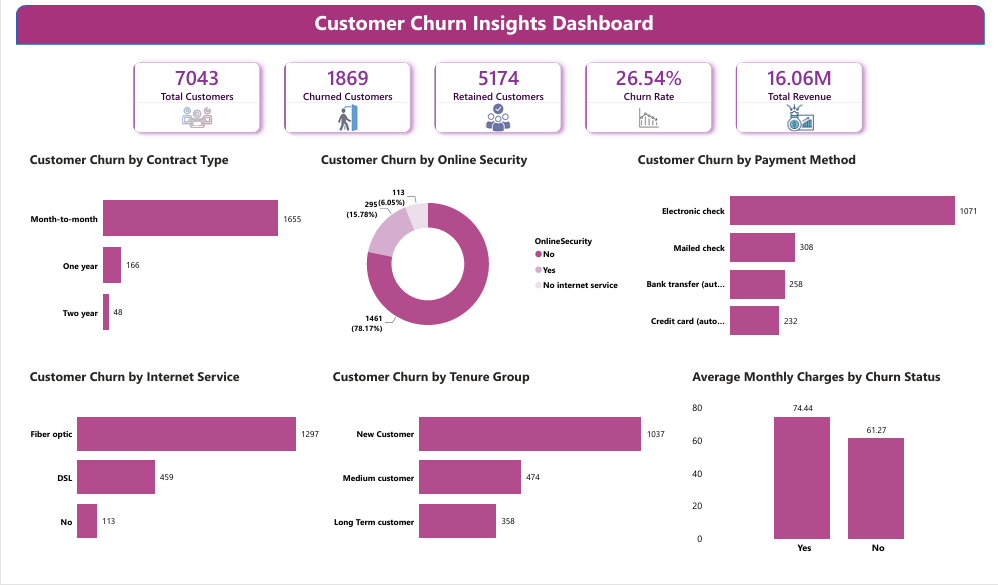

Layout of this report page (visuals, bound fields, positions):
{"tool":"powerbi","page":{"name":"Executive Overview","canvas":[1550,900],"ordinal":0},"visuals":[{"type":"cardVisual","fields":{"Data":["BaseMeasures.Total Customers","BaseMeasures.Churned Customers","BaseMeasures.Retained Customers","BaseMeasures.Churn Rate","BaseMeasures.Total Revenue"]},"box":[160,64,1225.5,167.5],"z":0},{"type":"shape","box":[0,0,1550,63.3],"z":1000},{"type":"textbox","box":[324.7,0,848.4,63.6],"z":2000},{"type":"clusteredBarChart","title":"Customer Churn by Contract Type","fields":{"Category":["customer_churn_analysis customer_churn_copy.Contract"],"Y":["BaseMeasures.Churned Customers"]},"box":[16.7,231.7,466.7,326.7],"z":3000},{"type":"clusteredColumnChart","title":"Average Monthly Charges by Churn Status","fields":{"Category":["customer_churn_analysis customer_churn_copy.Churn"],"Y":["BaseMeasures.Average Monthly Charges"]},"box":[1076.7,580,461.7,308.3],"z":4000},{"type":"donutChart","title":"Customer Churn by Online Security","fields":{"Y":["BaseMeasures.Churned Customers"],"Category":["customer_churn_analysis customer_churn_copy.OnlineSecurity"]},"box":[483.3,231.7,493.3,326.7],"z":5000},{"type":"clusteredBarChart","title":"Customer Churn by Tenure Group","fields":{"Category":["customer_churn_analysis customer_churn_copy.tenure_group"],"Y":["BaseMeasures.Churned Customers"]},"box":[501.7,580,560,308.3],"z":6000},{"type":"clusteredBarChart","title":"Customer Churn by Internet Service","fields":{"Category":["customer_churn_analysis customer_churn_copy.InternetService"],"Y":["BaseMeasures.Churned Customers"]},"box":[16.7,580,473.3,308.3],"z":7000},{"type":"clusteredBarChart","title":"Customer Churn by Payment Method","fields":{"Y":["BaseMeasures.Churned Customers"],"Category":["customer_churn_analysis customer_churn_copy.PaymentMethod"]},"box":[990,231.7,560,326.7],"z":8000}]}

Visuals, with their boxes in screenshot pixels (x1, y1, x2, y2), scaled from the page's 1550x900 canvas onto the 998x585 screenshot:
cardVisual - BaseMeasures.Total Customers x BaseMeasures.Churned Customers: {"left": 103, "top": 42, "right": 892, "bottom": 150}
shape: {"left": 0, "top": 0, "right": 997, "bottom": 41}
textbox: {"left": 209, "top": 0, "right": 755, "bottom": 41}
"Customer Churn by Contract Type" clusteredBarChart: {"left": 11, "top": 151, "right": 311, "bottom": 363}
"Average Monthly Charges by Churn Status" clusteredColumnChart: {"left": 693, "top": 377, "right": 991, "bottom": 577}
"Customer Churn by Online Security" donutChart: {"left": 311, "top": 151, "right": 629, "bottom": 363}
"Customer Churn by Tenure Group" clusteredBarChart: {"left": 323, "top": 377, "right": 684, "bottom": 577}
"Customer Churn by Internet Service" clusteredBarChart: {"left": 11, "top": 377, "right": 315, "bottom": 577}
"Customer Churn by Payment Method" clusteredBarChart: {"left": 637, "top": 151, "right": 997, "bottom": 363}
